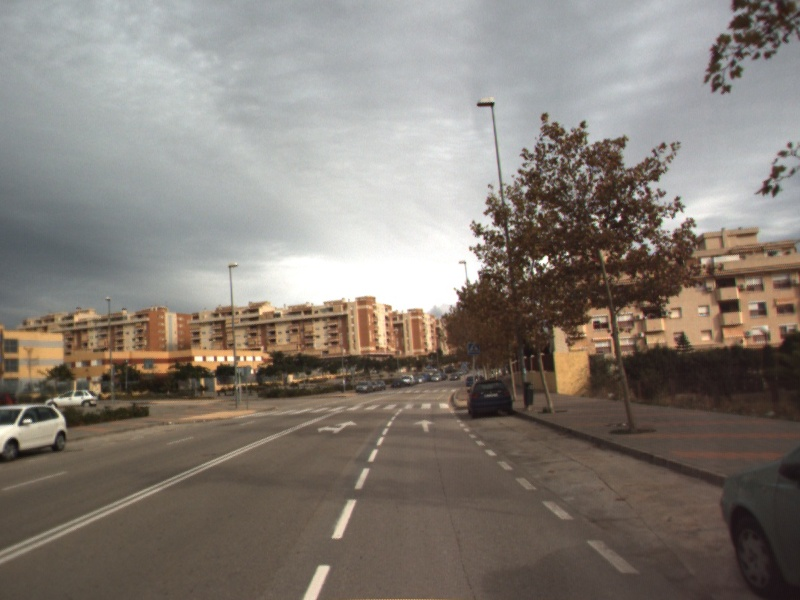STRAIGHT: (411, 418, 438, 434)
STRAIGHT_LEFT: (315, 419, 359, 435)
